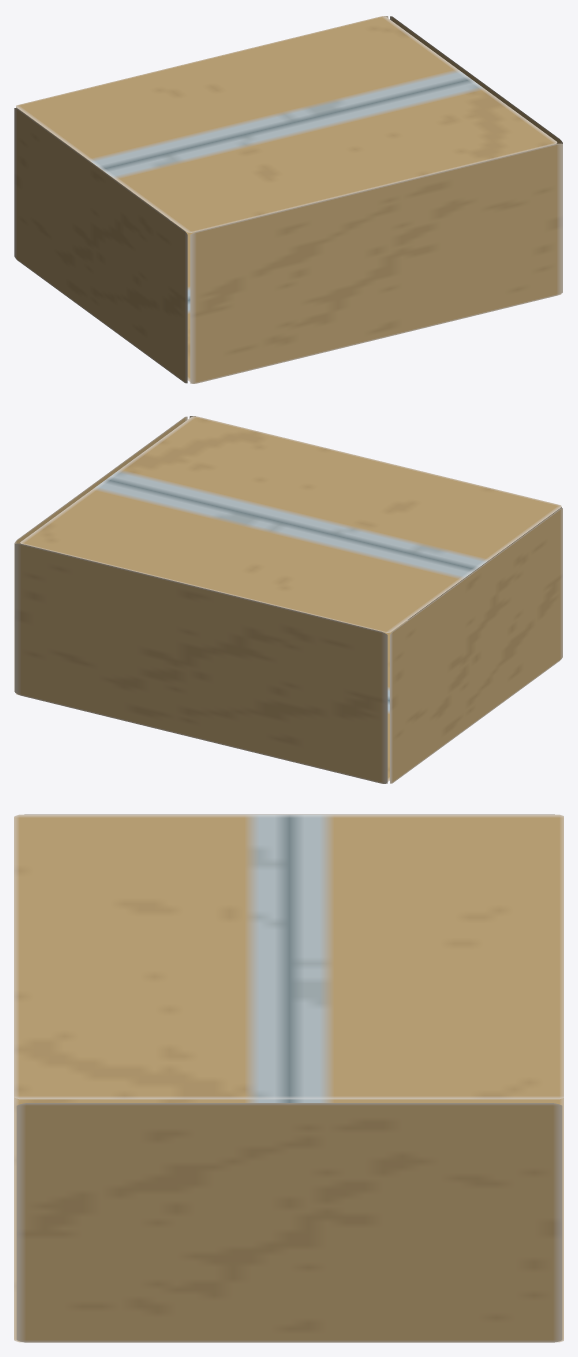
File: xiangzi.fbx
The picture shows the model from 3 angles, top to bottom: view 1: azimuth 30°, elevation 25°; view 2: azimuth 150°, elevation 25°; view 3: azimuth 270°, elevation 25°; orthographic projection. The views are drawn at different scales.
Visible parts, largest first — view 1: 平面.007; view 2: 平面.007; view 3: 平面.007.
Part boxes in pixels (box(x1,y1,x2,y2)): 平面.007: box(14, 16, 562, 383); 平面.007: box(14, 416, 562, 783); 平面.007: box(14, 814, 563, 1342).
Size of the model in its own units: 107 by 41.56 by 86.45.
